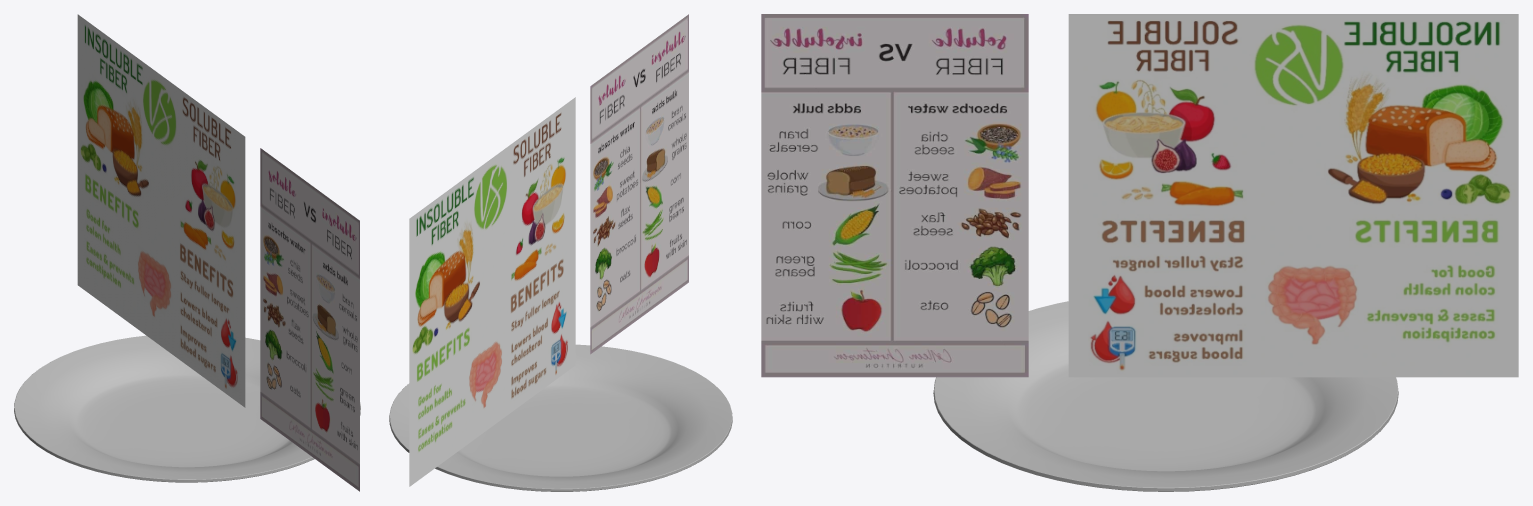
File: fiber.glb
3 views of the same model, side by side, from view 1: azimuth 30°, elevation 25°; view 2: azimuth 150°, elevation 25°; view 3: azimuth 270°, elevation 25° (orthographic). The views are drawn at different scales.
Parts seen in each view (by area): view 1: fiber_content_2, plate, fiber_content_1; view 2: fiber_content_2, plate, fiber_content_1; view 3: fiber_content_2, fiber_content_1, plate.
Part boxes in pixels (x1,y1,x2,y2): fiber_content_2: (77, 14, 245, 407); plate: (14, 335, 360, 482); fiber_content_1: (260, 148, 359, 491); fiber_content_2: (409, 97, 575, 486); plate: (389, 344, 732, 491); fiber_content_1: (590, 14, 688, 354); fiber_content_2: (1068, 14, 1518, 377); fiber_content_1: (761, 14, 1028, 377); plate: (933, 301, 1398, 491).
Size of the model in its own units: 3.22 by 3.19 by 5.25.
3 materials, 2 textured.
